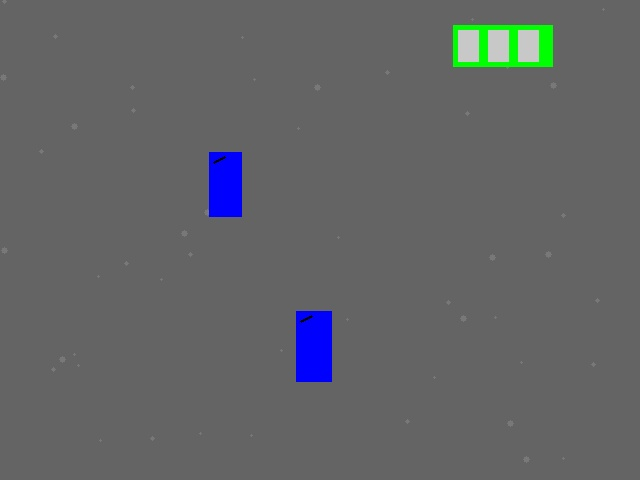bus: (453, 25, 552, 66)
motorcycle: (296, 311, 331, 381), (209, 152, 241, 216)
